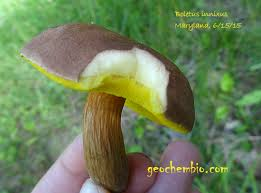boletus_poisinous: (16, 21, 213, 132)
